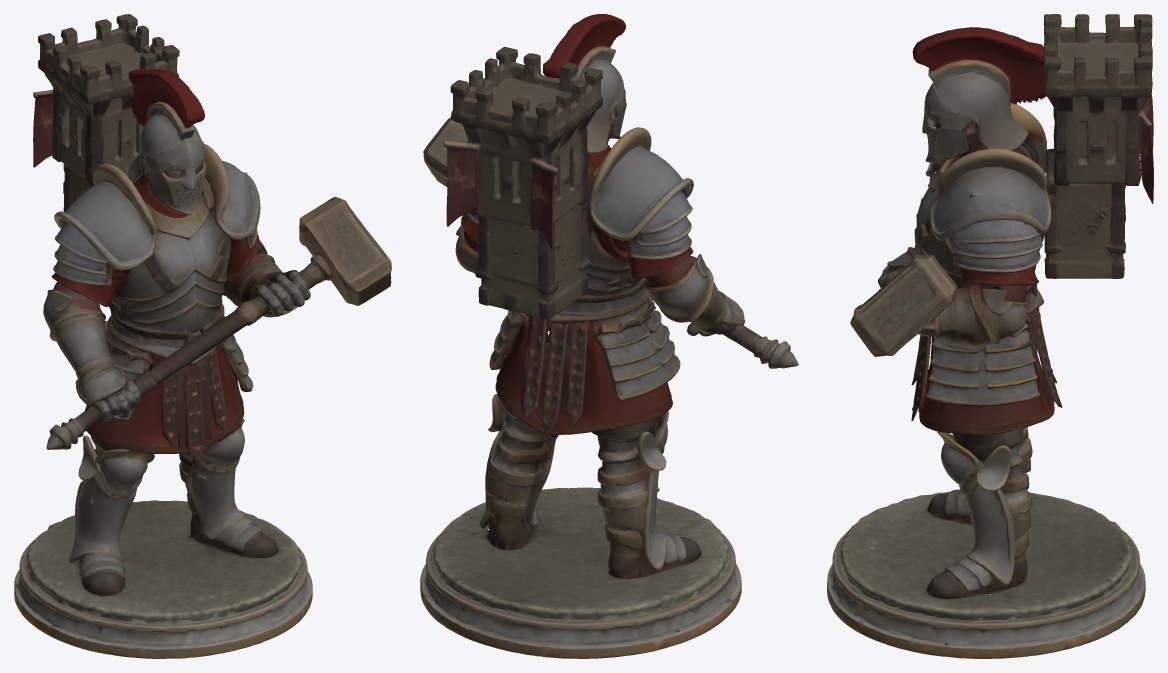
File: light_rook.glb
3 renders of one model, left to right at view 1: azimuth 30°, elevation 25°; view 2: azimuth 150°, elevation 25°; view 3: azimuth 270°, elevation 25°, orthographic. The views are drawn at different scales.
Visible parts, largest first — view 1: geom0; view 2: geom0; view 3: geom0.
Part boxes in pixels (left/top/right/bottom): geom0: left=14, top=14, right=391, bottom=658; geom0: left=420, top=14, right=798, bottom=658; geom0: left=827, top=14, right=1153, bottom=658.
Size of the model in its own units: 0.6768 by 1 by 0.5269.
Materials: 1 (1 with a texture image).
